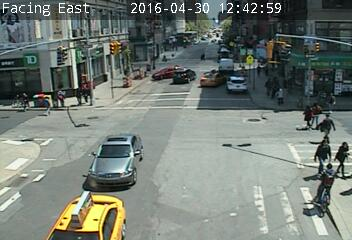pos: (308, 136, 338, 175), (328, 139, 351, 178), (316, 112, 339, 143), (307, 102, 326, 127), (298, 105, 317, 129), (261, 79, 277, 100), (322, 91, 337, 112), (275, 87, 288, 105)
